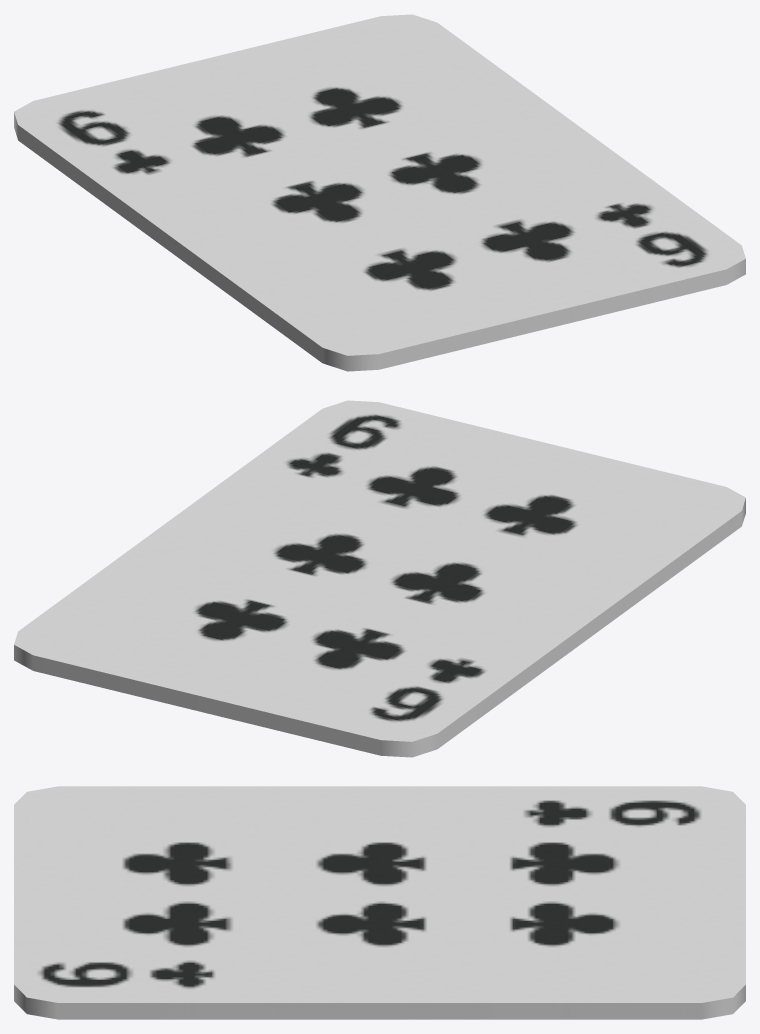
Rendered from Karta_6T.fbx.
3 renders of one model, top to bottom at view 1: azimuth 30°, elevation 25°; view 2: azimuth 150°, elevation 25°; view 3: azimuth 270°, elevation 25°, orthographic. The views are drawn at different scales.
Parts seen in each view (by area): view 1: KARTA; view 2: KARTA; view 3: KARTA.
Boxes of the visible parts, <box> form: KARTA: <box>14,14,745,371</box>; KARTA: <box>14,400,745,757</box>; KARTA: <box>14,786,745,1019</box>.
Bounding box in the file's own units: 840 × 30 × 1200.
